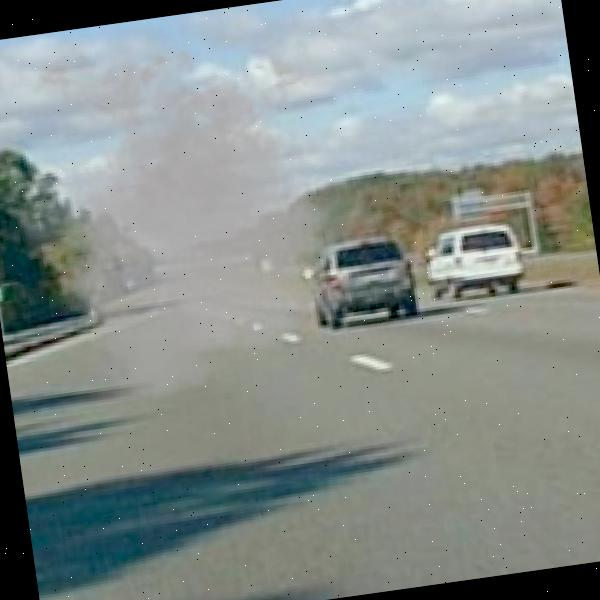smoke: (0, 0, 407, 421)
